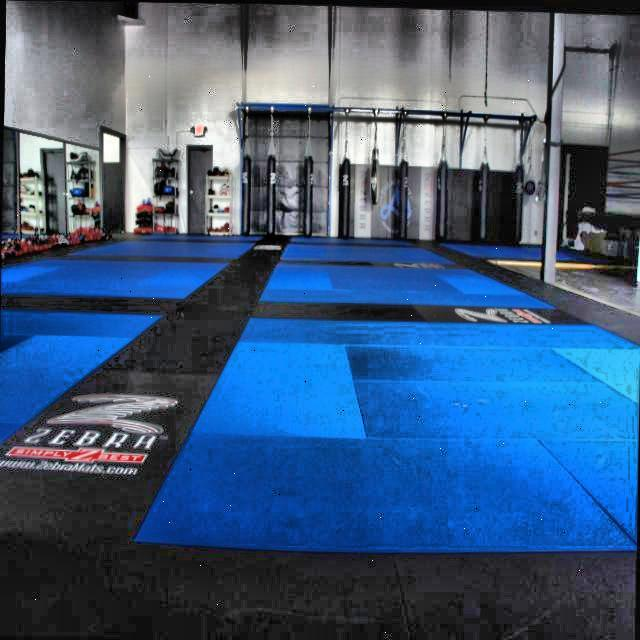boxing-bag: (338, 106, 351, 240), (266, 103, 278, 238), (302, 104, 314, 238), (436, 109, 448, 239), (512, 112, 524, 242), (240, 107, 251, 237), (479, 112, 490, 238), (398, 110, 408, 238), (370, 107, 382, 205)
